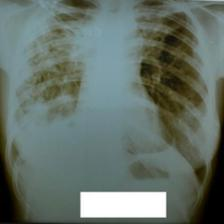tuberculosis: (5, 0, 209, 200)
